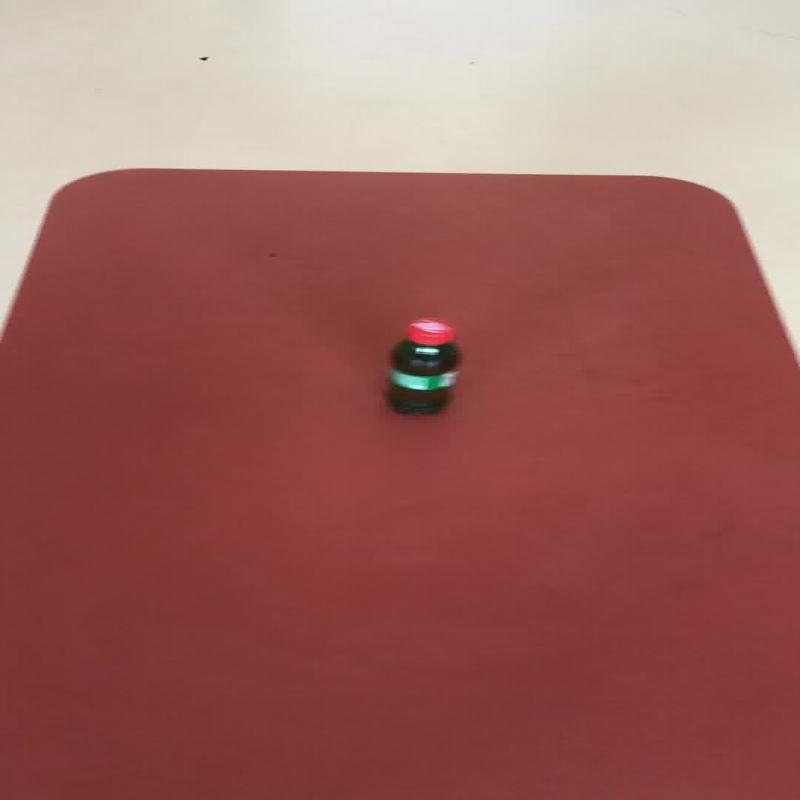guarana: (385, 316, 462, 415)
